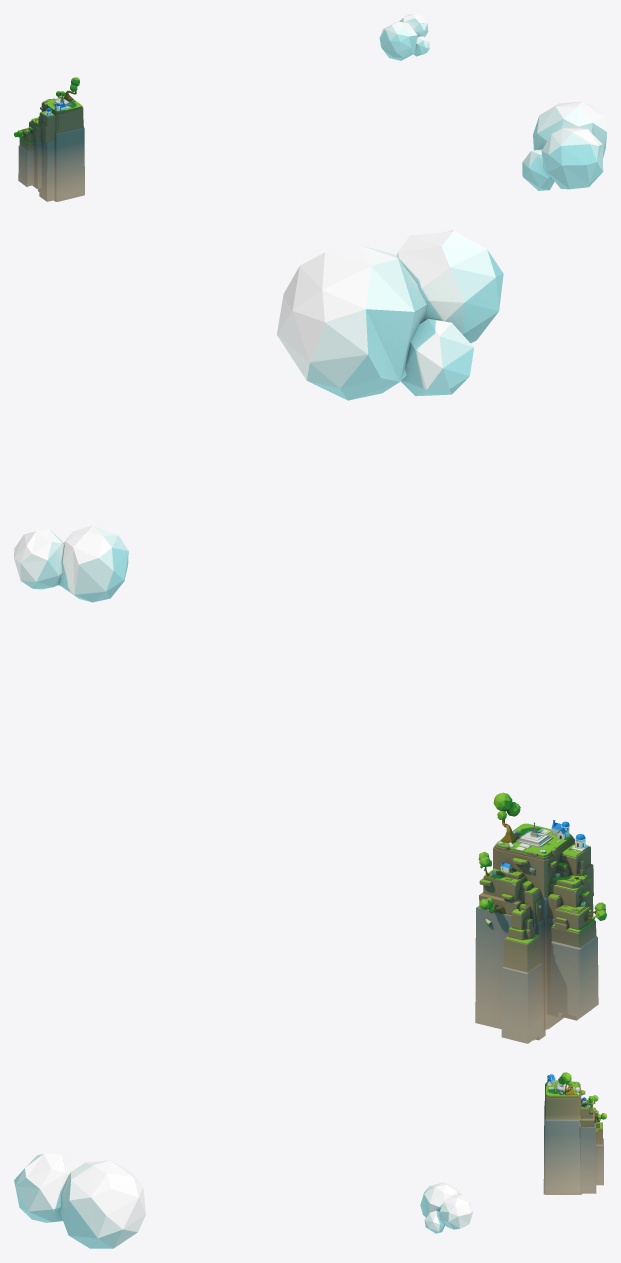
3 renders of one model, top to bottom at view 1: azimuth 30°, elevation 25°; view 2: azimuth 150°, elevation 25°; view 3: azimuth 270°, elevation 25°, orthographic. The views are drawn at different scales.
Visible parts, largest first — view 1: SM_Clouds_2_0, SM_Mounain_Cloud_0; view 2: SM_Clouds_2_0, SM_Mounain_Cloud_0; view 3: SM_Clouds_2_0, SM_Mounain_Cloud_0.
Boxes of the visible parts, bbox=[...] form: SM_Clouds_2_0: bbox=[379, 14, 606, 190]; SM_Mounain_Cloud_0: bbox=[14, 77, 84, 201]; SM_Clouds_2_0: bbox=[14, 230, 503, 602]; SM_Mounain_Cloud_0: bbox=[475, 792, 606, 1043]; SM_Clouds_2_0: bbox=[14, 1154, 472, 1248]; SM_Mounain_Cloud_0: bbox=[543, 1072, 606, 1194].
Bounding box in the file's own units: 660 × 284 × 808.
3 materials, 3 textured.
